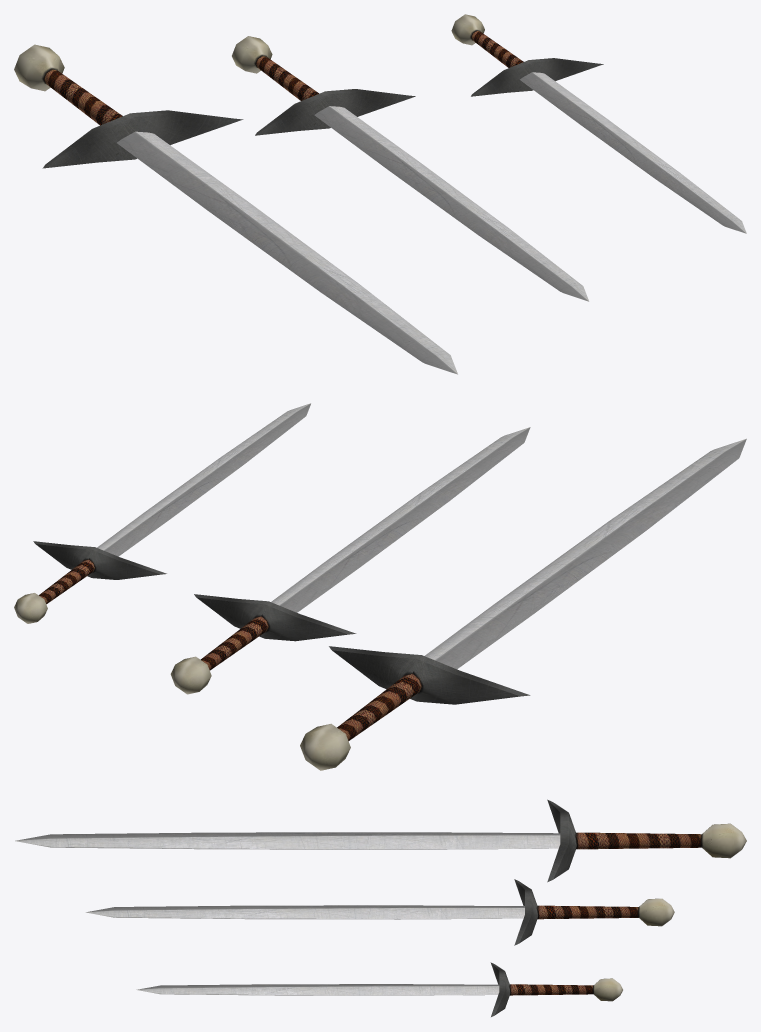
File: Swords-OBJ.obj
The picture shows the model from 3 angles, top to bottom: view 1: azimuth 30°, elevation 25°; view 2: azimuth 150°, elevation 25°; view 3: azimuth 270°, elevation 25°; orthographic projection. The views are drawn at different scales.
Parts seen in each view (by area): view 1: Sword_01, Sword_02, Sword_03; view 2: Sword_01, Sword_02, Sword_03; view 3: Sword_01, Sword_02, Sword_03.
Part boxes in pixels (left/top/right/bottom): Sword_01: left=14, top=44, right=457, bottom=374; Sword_02: left=232, top=36, right=589, bottom=301; Sword_03: left=451, top=14, right=746, bottom=233; Sword_01: left=300, top=438, right=746, bottom=770; Sword_02: left=170, top=427, right=530, bottom=694; Sword_03: left=14, top=403, right=310, bottom=623; Sword_01: left=15, top=799, right=746, bottom=882; Sword_02: left=85, top=879, right=674, bottom=945; Sword_03: left=136, top=962, right=622, bottom=1016.
Size of the model in its own units: 69 by 5.31 by 98.05.
Materials: 1 (1 with a texture image).
